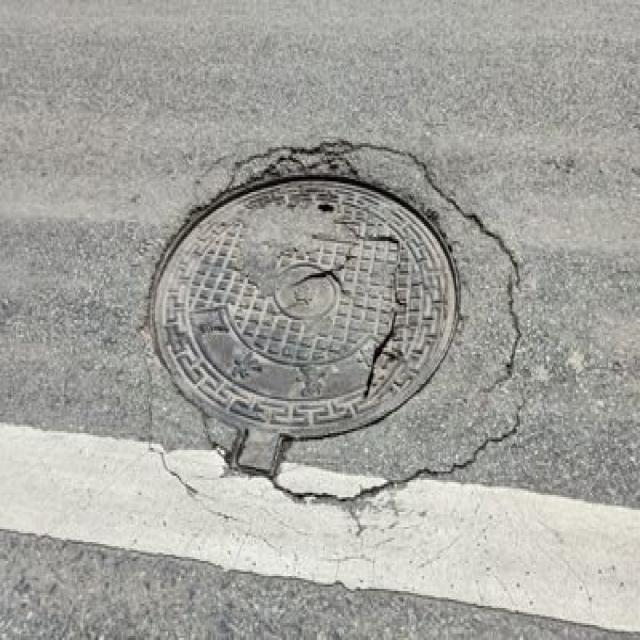manhole: (139, 149, 469, 478)
